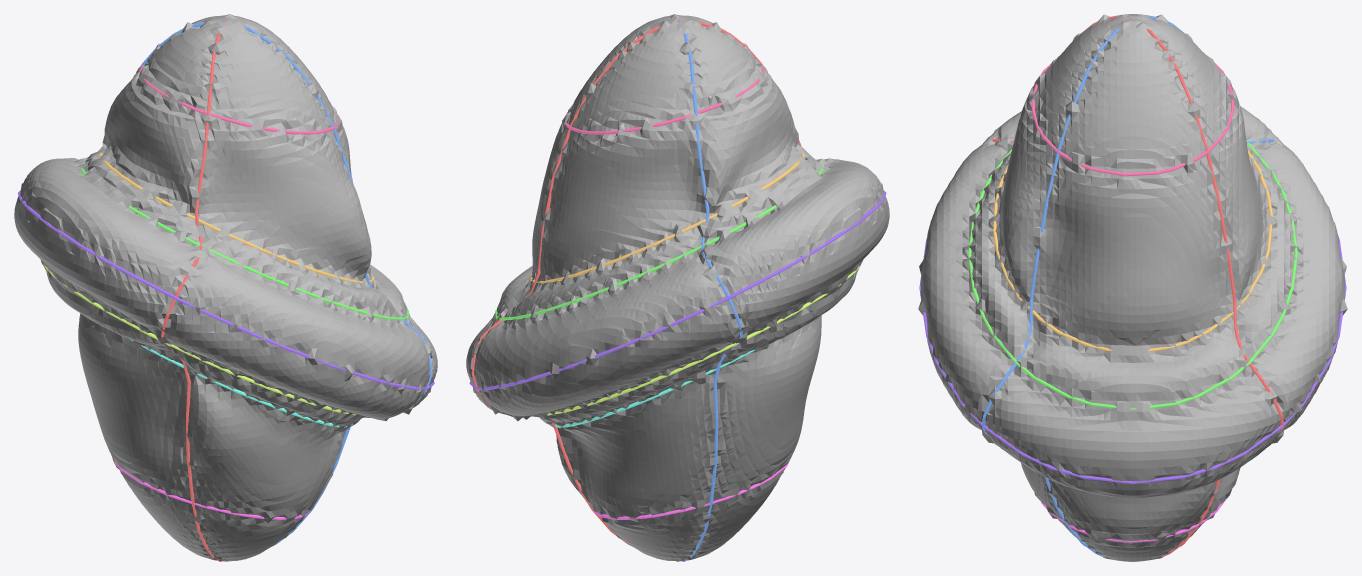
The model's file is flowrep_ellipsetorus.gltf.
The picture shows the model from 3 angles, left to right: view 1: azimuth 30°, elevation 25°; view 2: azimuth 150°, elevation 25°; view 3: azimuth 270°, elevation 25°; orthographic projection.
Size of the model in its own units: 0.5001 by 0.7109 by 0.5151.
